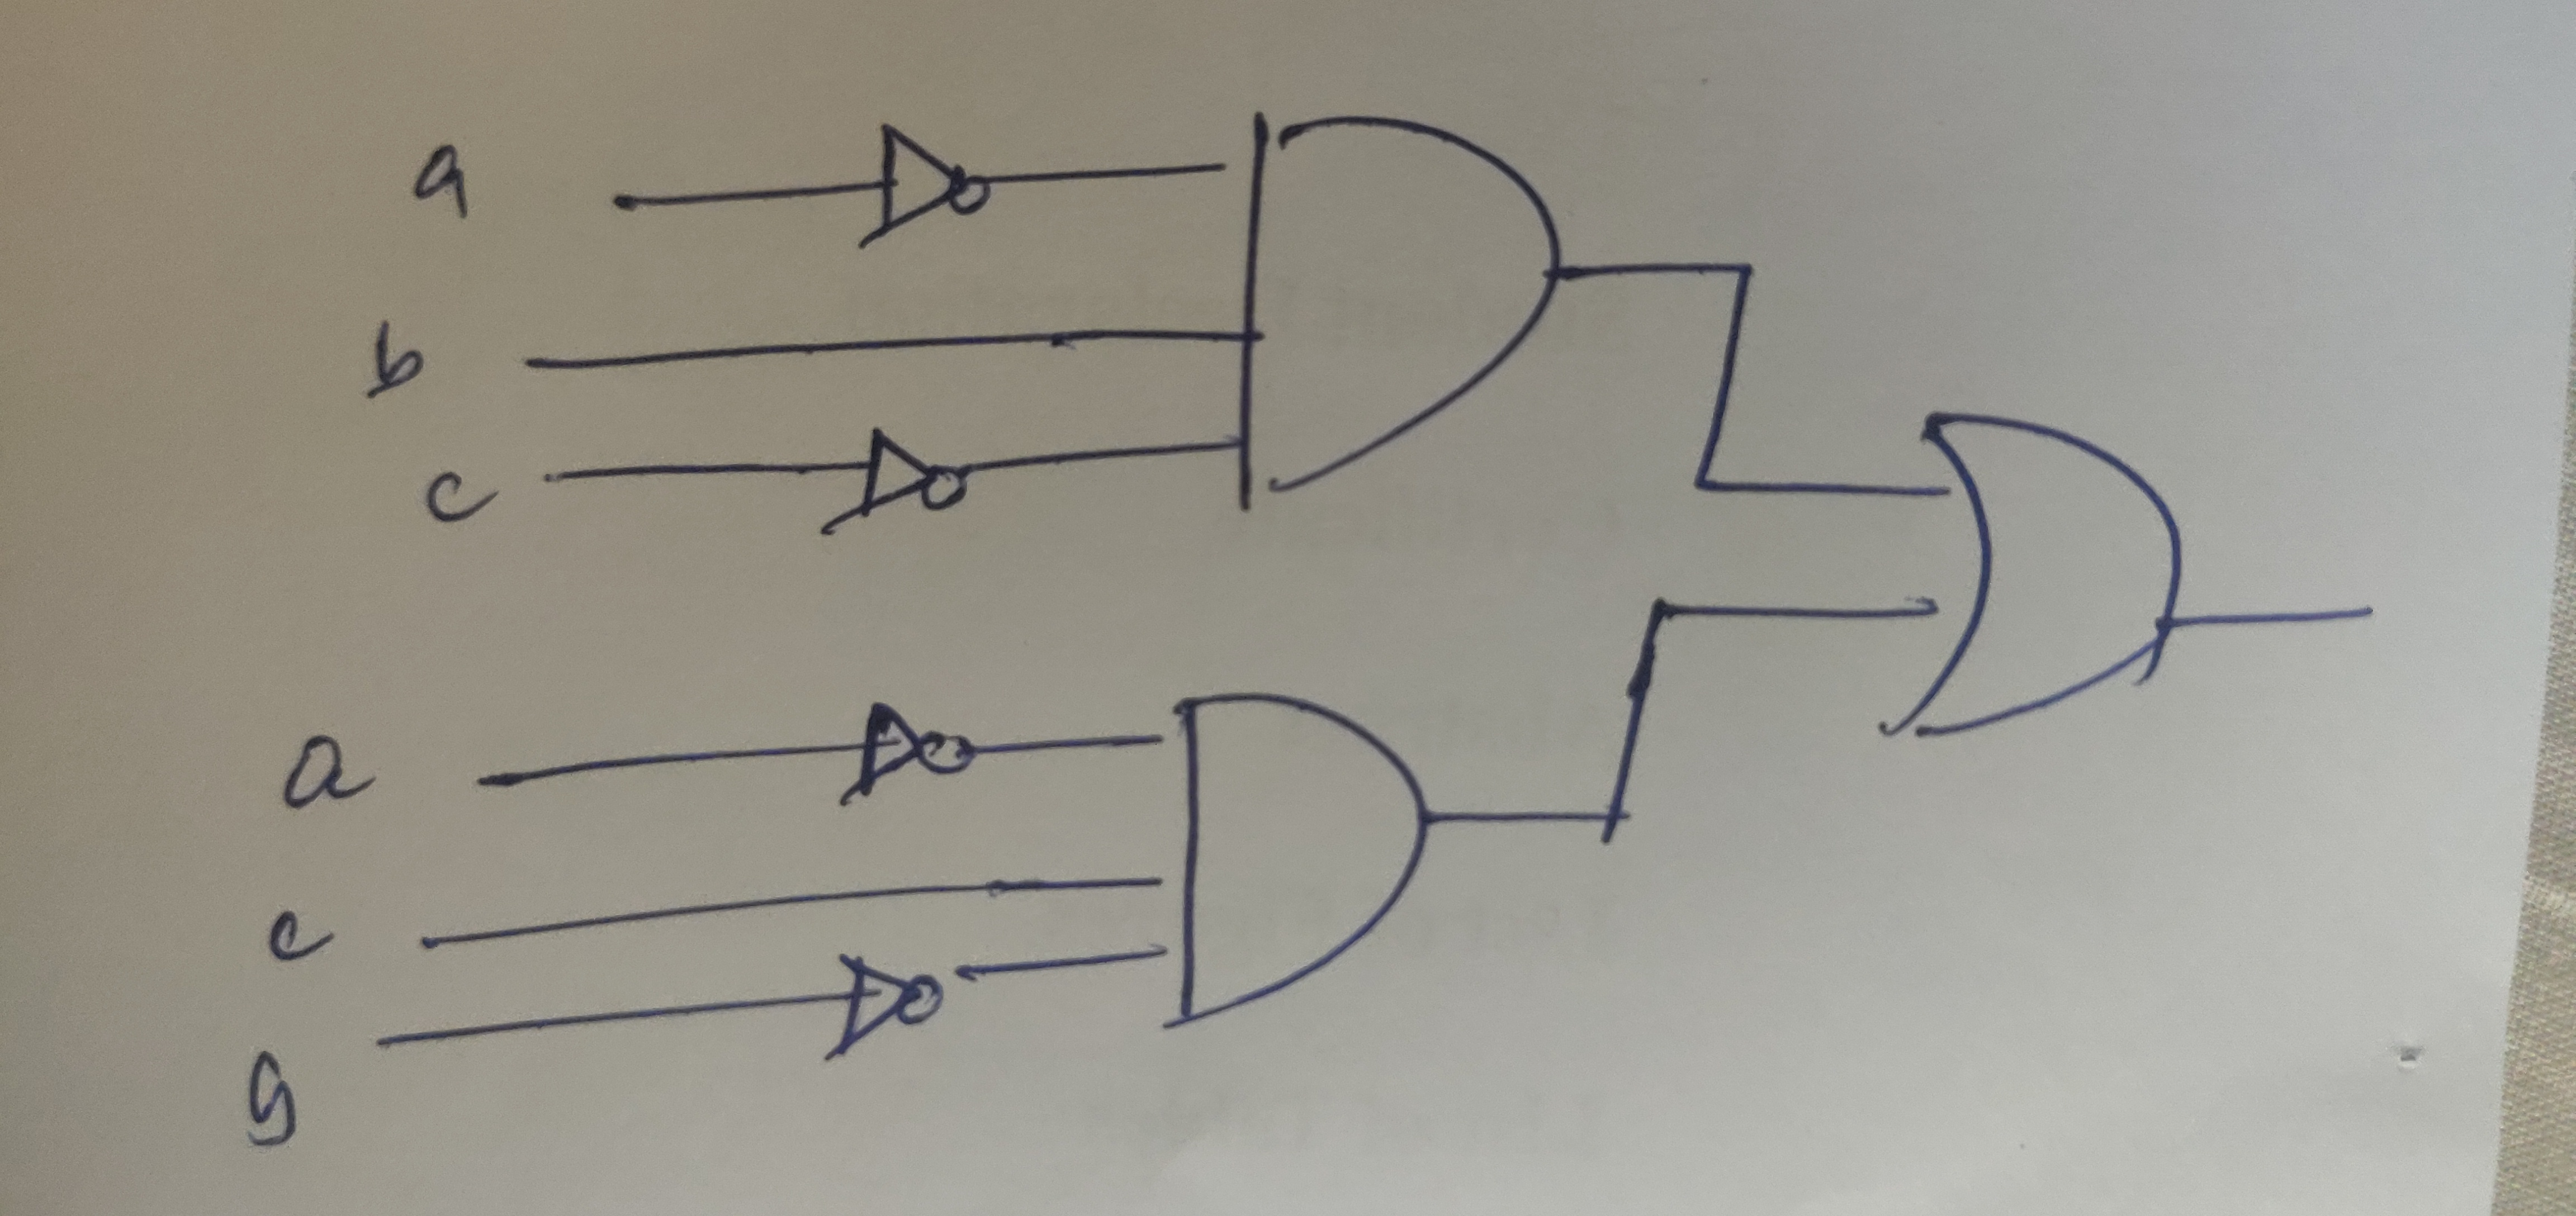and: (1183, 72, 1594, 546), (1137, 641, 1469, 1091)
not: (835, 102, 1025, 273), (808, 401, 1002, 569), (817, 927, 999, 1088), (828, 684, 999, 835)
or: (1866, 371, 2201, 785)
